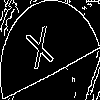X: (25, 25, 57, 80)
